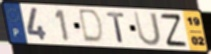1: (53, 8, 70, 42)
4: (26, 7, 50, 42)
D: (78, 8, 105, 45)
T: (105, 11, 126, 44)
U: (132, 11, 163, 47)
Z: (159, 13, 189, 48)
